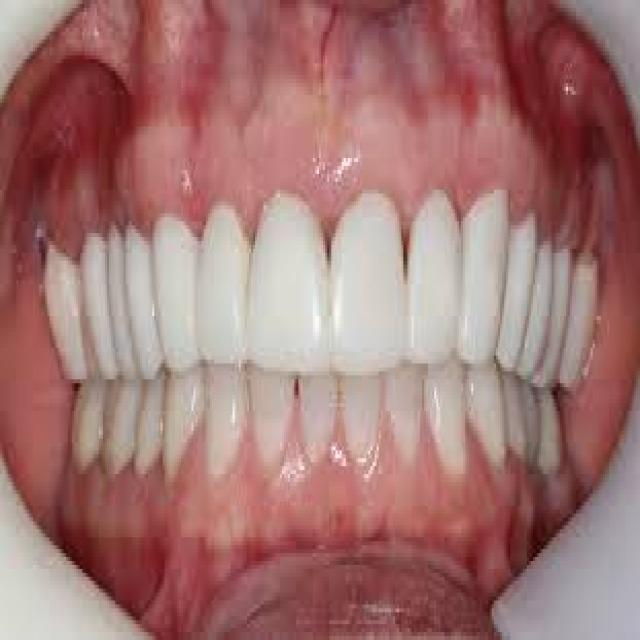tooth: (321, 198, 412, 368), (243, 190, 327, 371), (191, 202, 247, 372), (407, 194, 461, 368), (463, 170, 504, 379), (150, 210, 200, 368), (121, 213, 162, 380), (424, 340, 469, 478), (247, 356, 296, 470), (162, 352, 204, 474), (294, 363, 338, 478), (474, 363, 514, 482), (506, 194, 531, 383), (502, 360, 541, 478), (383, 352, 424, 462), (343, 371, 382, 482), (214, 379, 247, 470)
